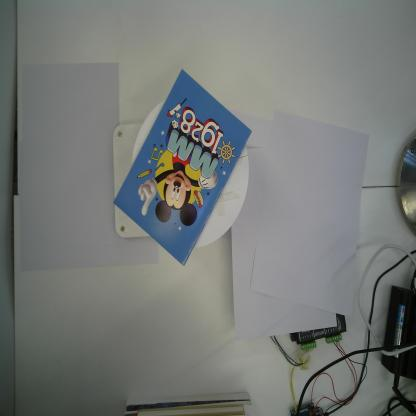Stationery: (112, 67, 252, 267)
